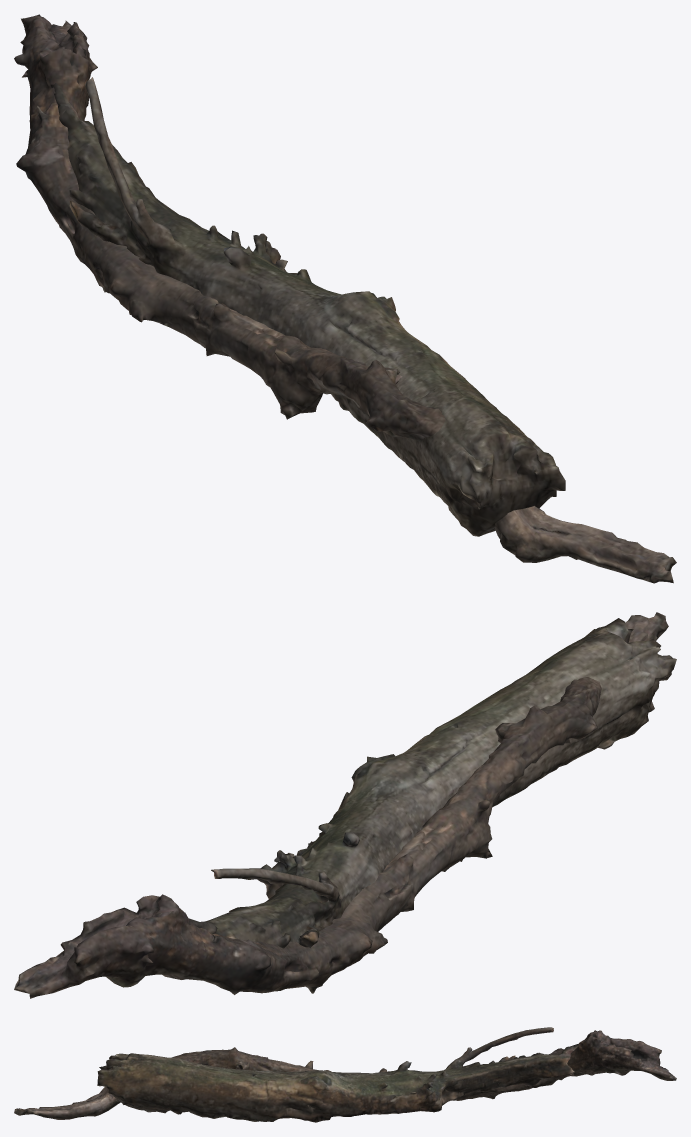
Rendered from sample.gltf.
3 views of the same model, one above another, from view 1: azimuth 30°, elevation 25°; view 2: azimuth 150°, elevation 25°; view 3: azimuth 270°, elevation 25° (orthographic). The views are drawn at different scales.
Parts seen in each view (by area): view 1: branch_c, branch_b; view 2: branch_c, branch_b; view 3: branch_c, branch_b.
Boxes of the visible parts, bbox=[...] form: branch_c: bbox=[50, 77, 565, 536]; branch_b: bbox=[14, 14, 676, 583]; branch_c: bbox=[188, 618, 676, 948]; branch_b: bbox=[14, 612, 668, 998]; branch_c: bbox=[97, 1027, 578, 1122]; branch_b: bbox=[14, 1030, 676, 1119].
Size of the model in its own units: 0.1512 by 0.1433 by 1.04.
1 material, 1 textured.
